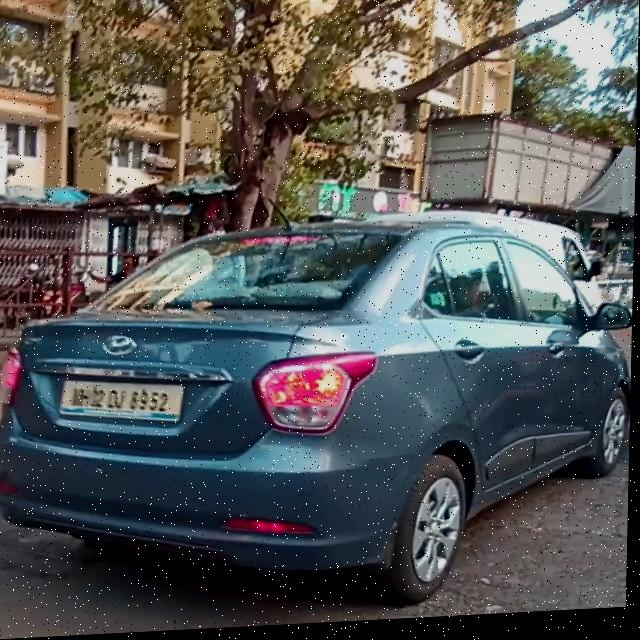plate: (59, 374, 186, 429)
